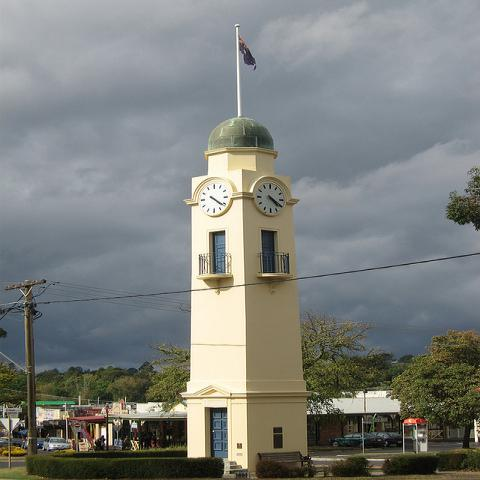car: (328, 433, 386, 450), (370, 432, 403, 448), (42, 437, 71, 451), (24, 438, 46, 450), (11, 437, 24, 448), (0, 438, 9, 447)
